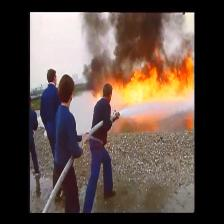fire: (115, 63, 195, 102)
smoke: (87, 17, 194, 61)
